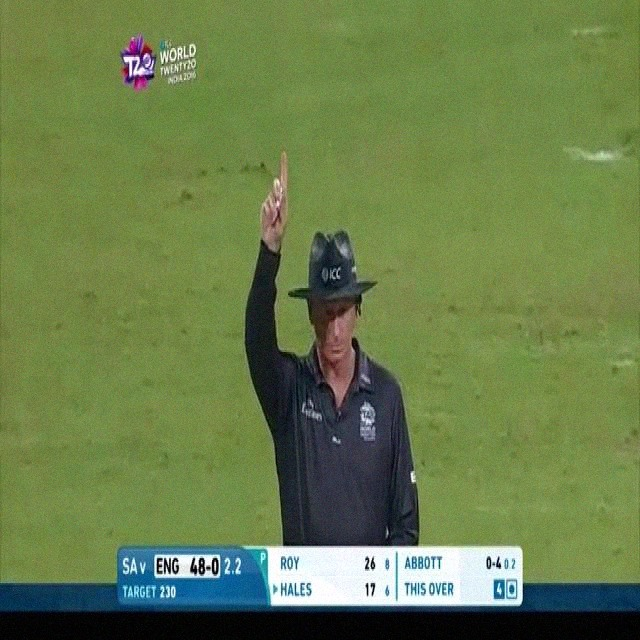Out: (240, 143, 425, 537)
